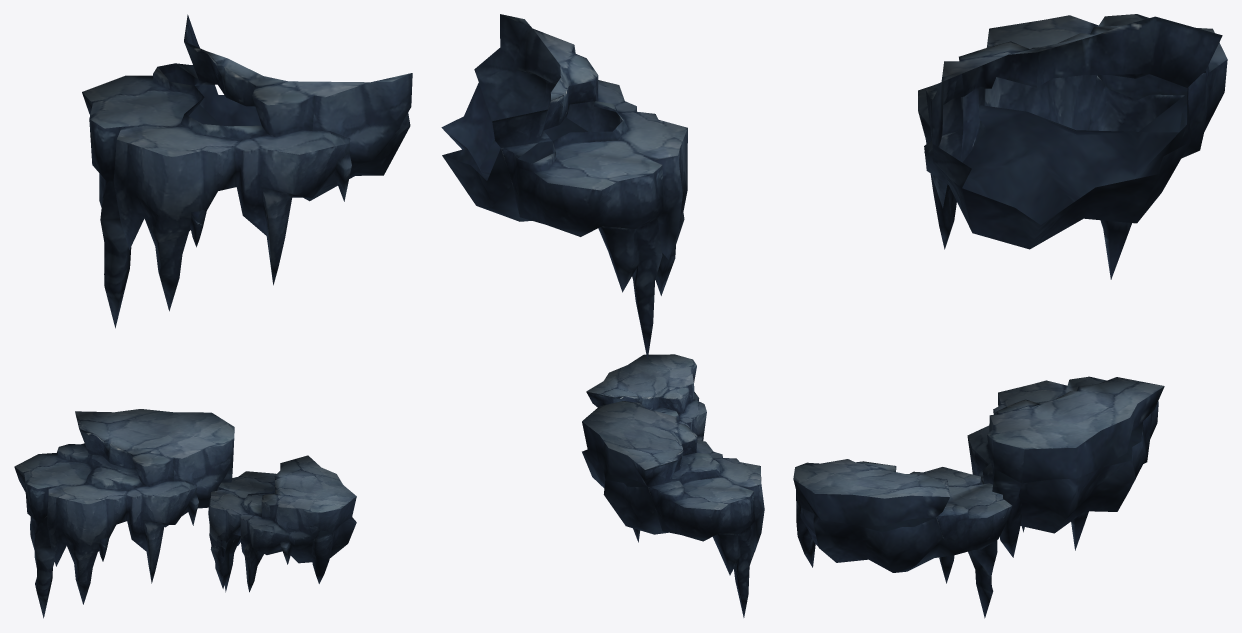
Rendered from Area_01_12.fbx.
3 renders of one model, left to right at view 1: azimuth 30°, elevation 25°; view 2: azimuth 150°, elevation 25°; view 3: azimuth 270°, elevation 25°, orthographic. The views are drawn at different scales.
Parts seen in each view (by area): view 1: Area_01_12; view 2: Area_01_12; view 3: Area_01_12.
Boxes of the visible parts, <box> form: Area_01_12: <box>14,14,412,618</box>; Area_01_12: <box>441,14,764,617</box>; Area_01_12: <box>793,14,1227,618</box>.
Bounding box in the file's own units: 3265 × 4685 × 2883.
